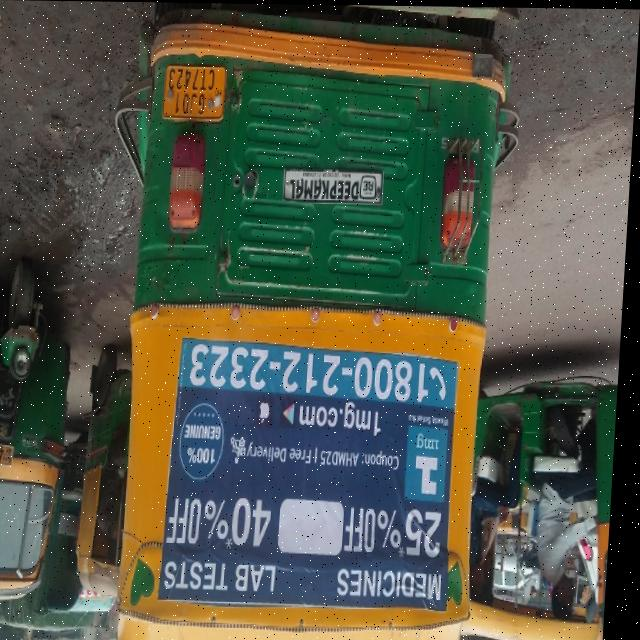plate: (160, 56, 230, 134), (0, 438, 24, 471)
